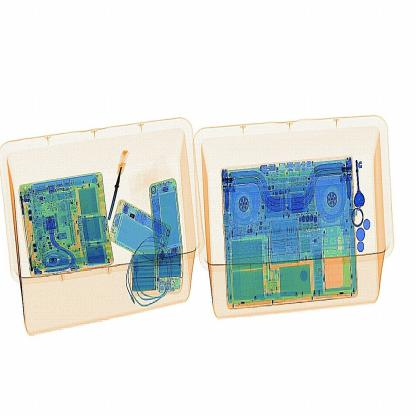gun: (105, 144, 124, 220)
